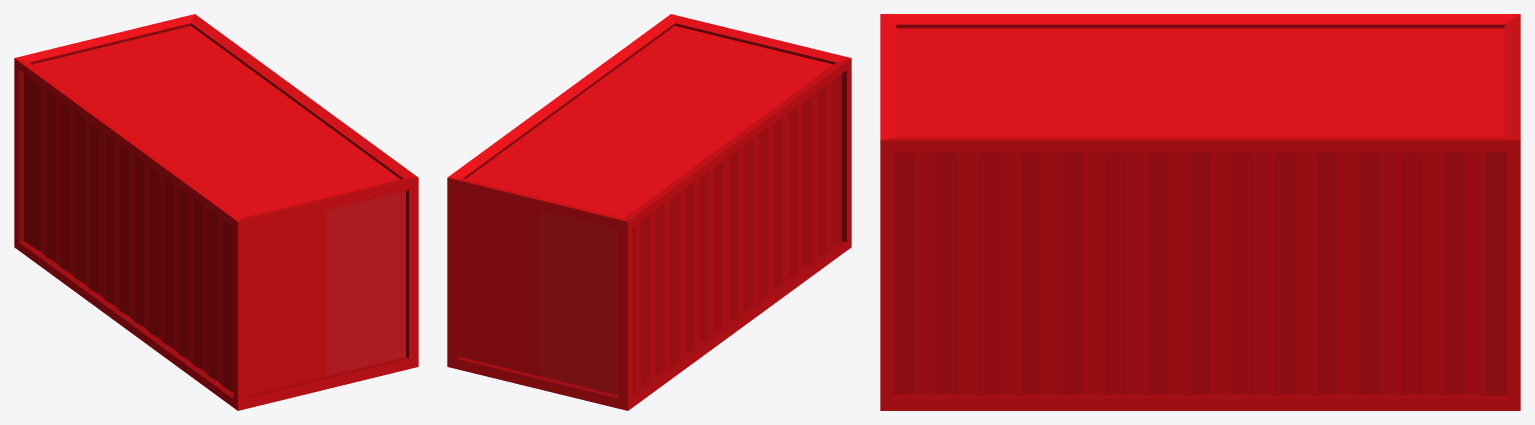
Rendered from container Closed.fbx.
3 views of the same model, side by side, from view 1: azimuth 30°, elevation 25°; view 2: azimuth 150°, elevation 25°; view 3: azimuth 270°, elevation 25° (orthographic). The views are drawn at different scales.
Parts seen in each view (by area): view 1: Container Merge; view 2: Container Merge; view 3: Container Merge.
Boxes of the visible parts, x1,y1,x2,y2 form: Container Merge: (14,14,418,410); Container Merge: (447,14,851,410); Container Merge: (880,14,1520,410).
Bounding box in the file's own units: 7 × 7 × 15.
